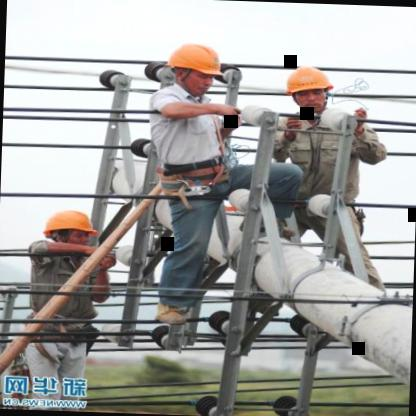helmet: (162, 36, 228, 96), (34, 204, 102, 262), (279, 61, 338, 116)
